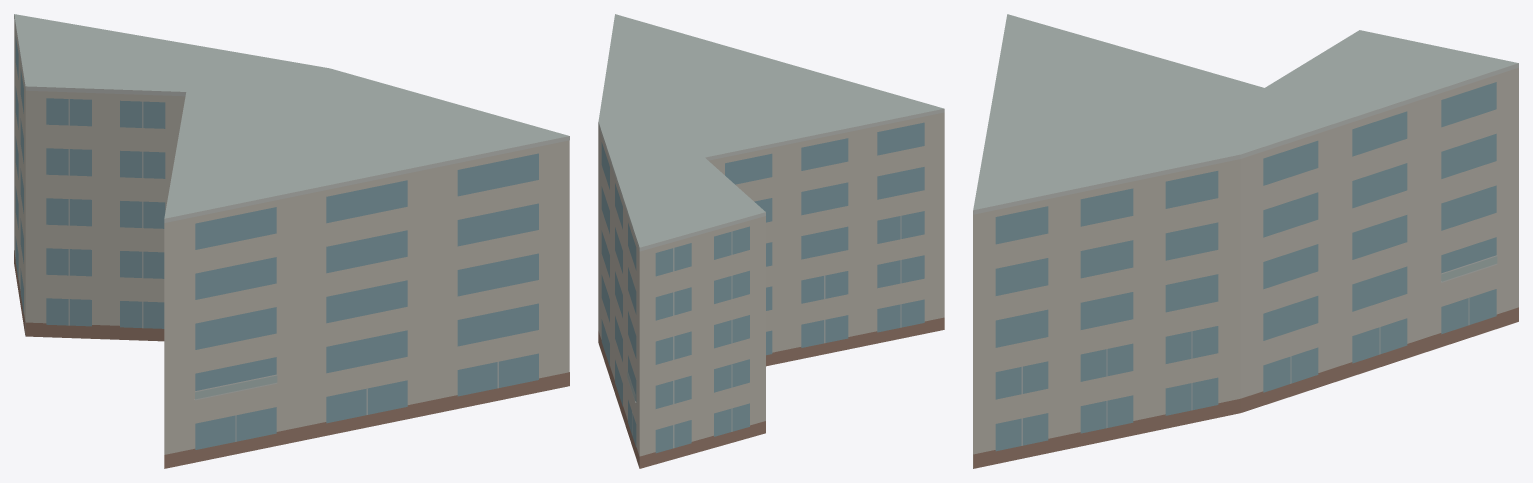
Rendered from survey-upis-32738513.glb.
3 renders of one model, left to right at view 1: azimuth 30°, elevation 25°; view 2: azimuth 150°, elevation 25°; view 3: azimuth 270°, elevation 25°, orthographic. The views are drawn at different scales.
Visible parts, largest first — view 1: survey-upis-32738513.tmp; view 2: survey-upis-32738513.tmp; view 3: survey-upis-32738513.tmp.
Boxes of the visible parts, x1=… form: survey-upis-32738513.tmp: x1=14, y1=14, x2=569, y2=468; survey-upis-32738513.tmp: x1=598, y1=14, x2=944, y2=468; survey-upis-32738513.tmp: x1=973, y1=14, x2=1518, y2=468.
Bounding box in the file's own units: 23.05 × 14.15 × 27.07.
